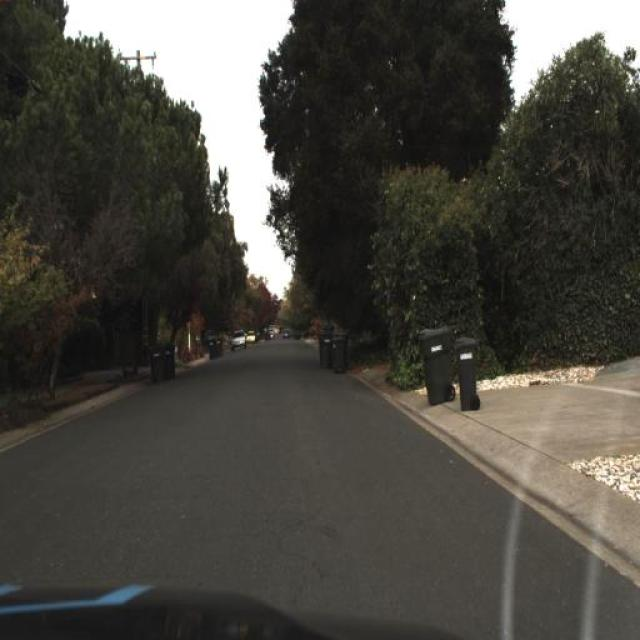car: (231, 330, 248, 351), (246, 332, 256, 344), (266, 332, 272, 342), (283, 330, 289, 339), (268, 329, 274, 337), (268, 332, 273, 338)
